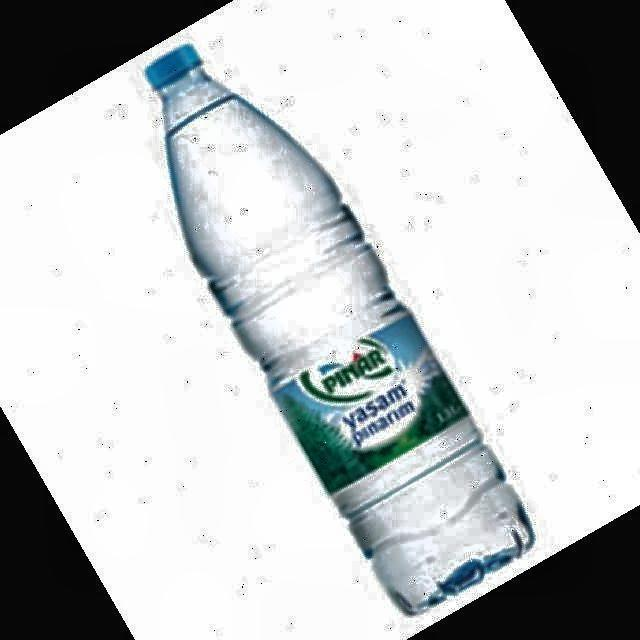plastic: (145, 44, 534, 613)
